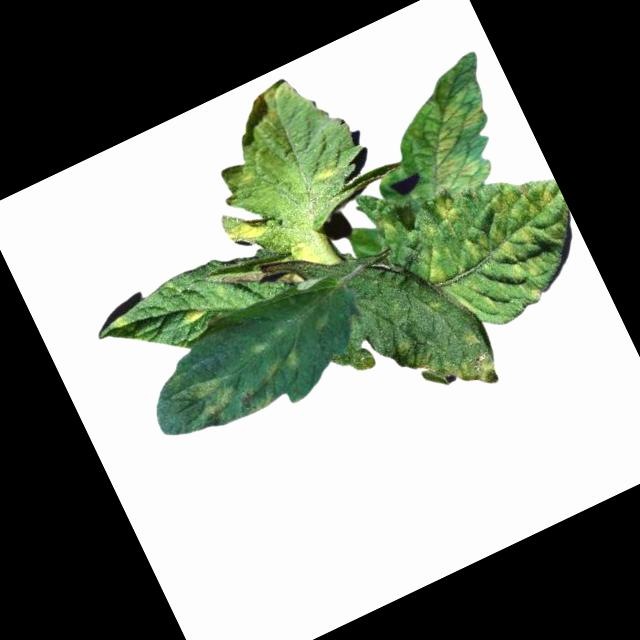Leaf_Mold: (404, 170, 596, 346), (373, 48, 528, 210), (400, 323, 503, 416), (174, 363, 249, 430), (246, 73, 305, 127), (221, 205, 277, 249), (259, 345, 309, 387), (428, 190, 467, 233), (307, 153, 345, 185), (175, 299, 211, 329)
